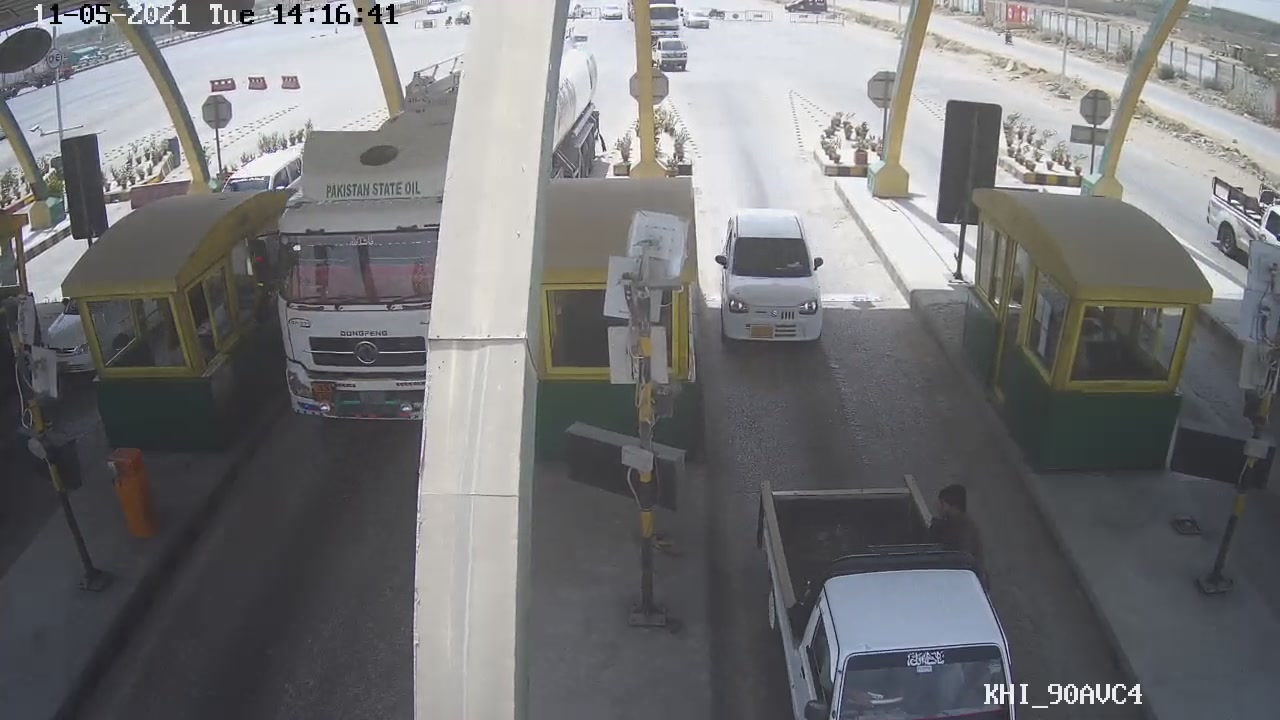F1: (709, 206, 830, 350)
